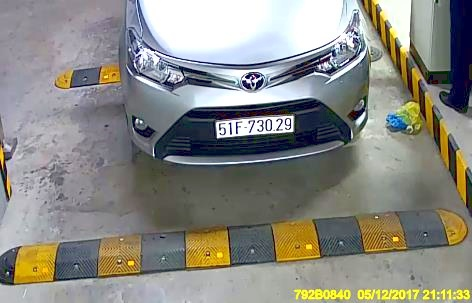plate: (215, 110, 296, 139)
